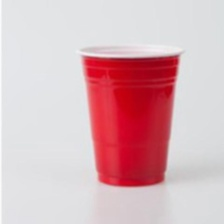glass: (69, 40, 189, 194)
